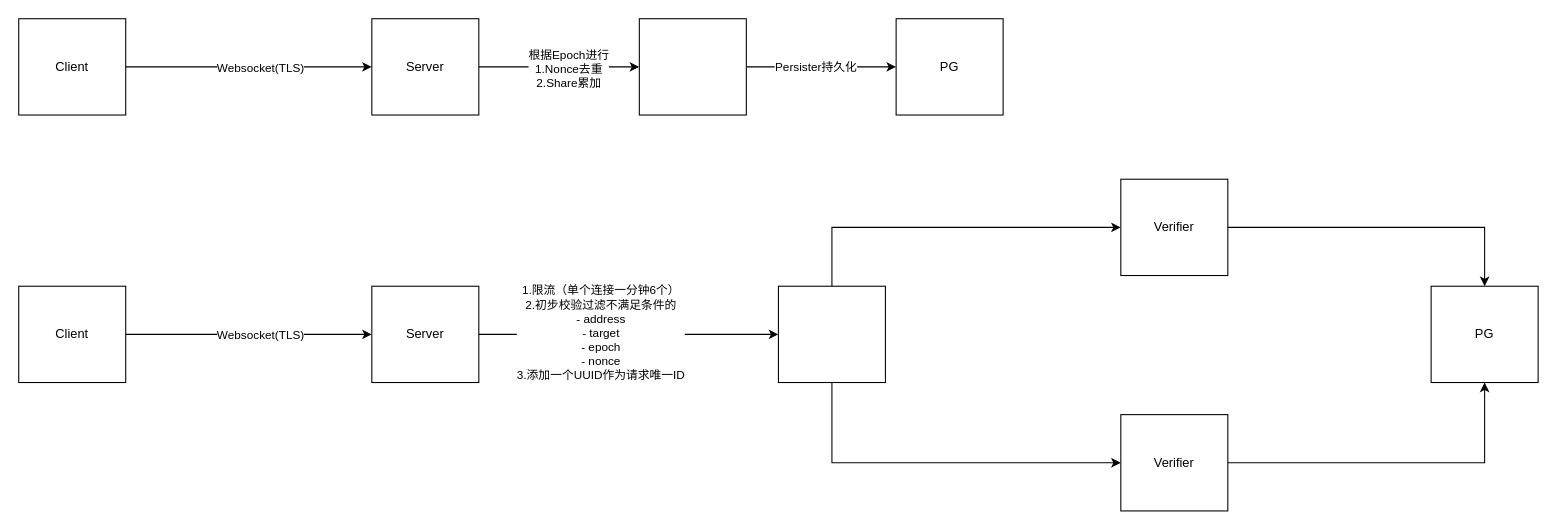
Image size: 1557x530. Some labels were removed from this diagram. Each missing label, with the centre of its shape:
"Kafka" goes at [831,334].
"Redis" goes at [692,66].
